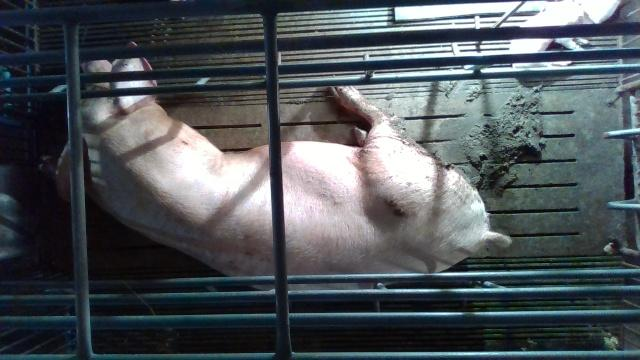piglet: (508, 0, 590, 67)
sow-sit: (51, 40, 513, 292)
